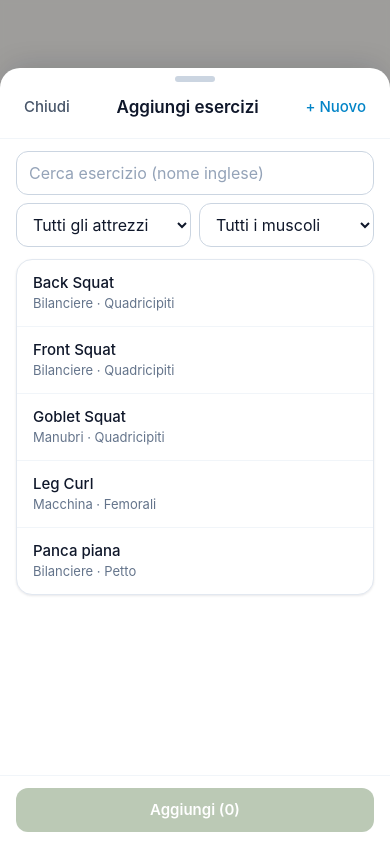
Test: ExercisePicker offline nell'IPA › filtra per attrezzo e per muscolo sugli esercizi locali
This screenshot has width=390, height=844.
Select "Macchina" in the dropdown named "Attrezzo". click: (104, 224)
box: [16,202,191,246]
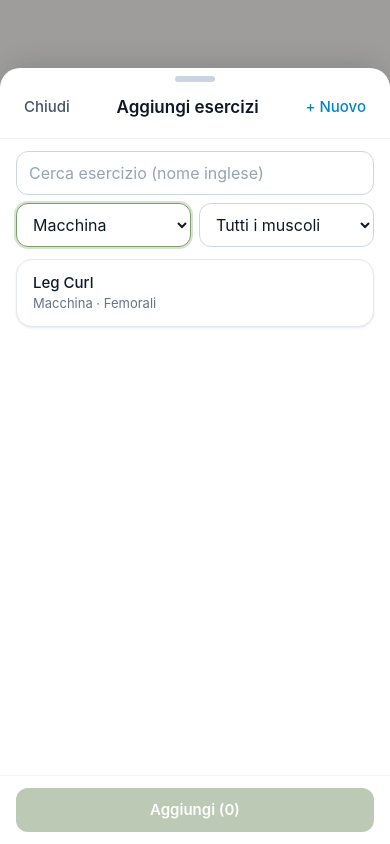
Expected: the button "Leg Curl Macchina · Femorali" is shown, [17,260,373,326]
Now the button "Back Squat" is gone
Select "Tutti gli attrezzi" in the dropdown named "Attrezzo". click: (104, 224)
box: [16,202,191,246]
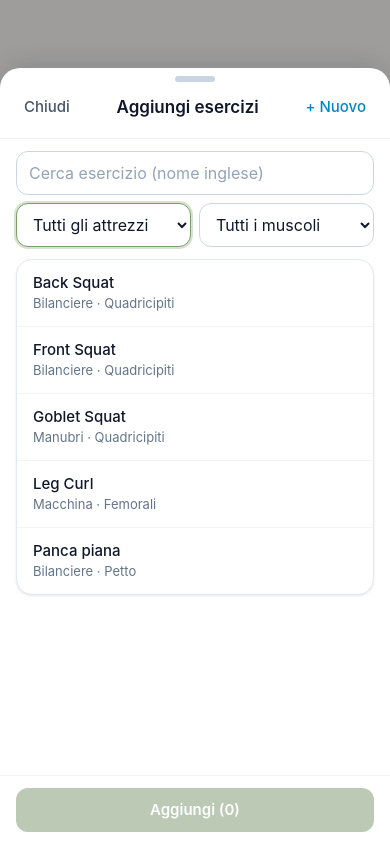
Select "Quadricipiti" in the dropdown named "Muscolo". click: (286, 224)
box: [199,202,374,246]
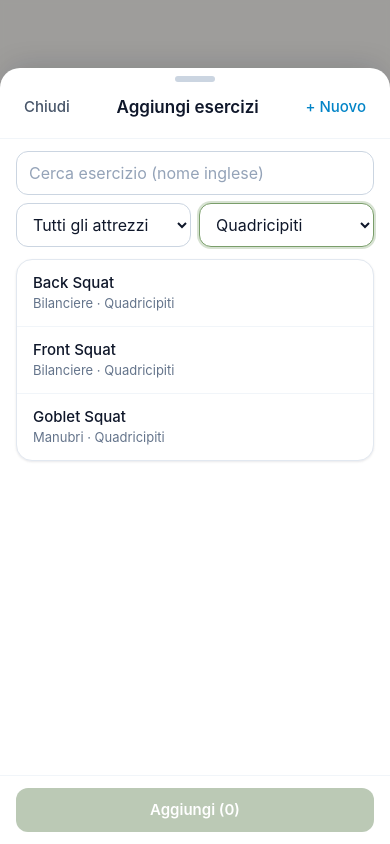
Now the button "Back Squat Bilanciere · Quadricipiti" is shown, box [17,260,373,326]
Now the button "Goblet Squat Manubri · Quadricipiti" is shown, box [17,394,373,460]
Now the button "Leg Curl" is gone
